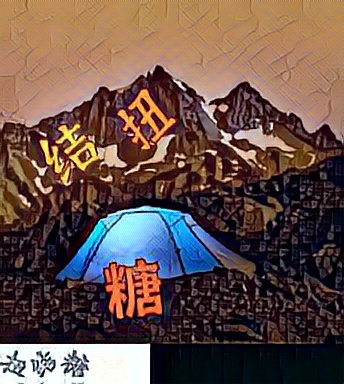BDE1: (39, 118, 104, 183)
C5A4: (113, 87, 178, 152)
CCC7: (101, 255, 166, 320)
